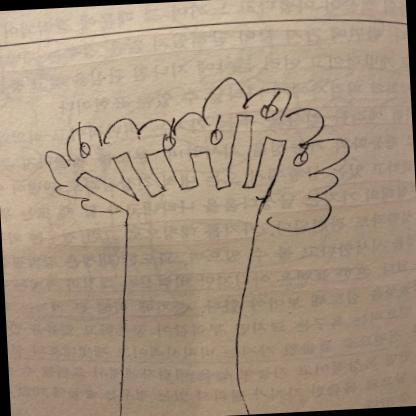branch_cut: (75, 113, 290, 214)
crown_cloud: (40, 72, 352, 245)
trunk_straight: (110, 224, 264, 376)
